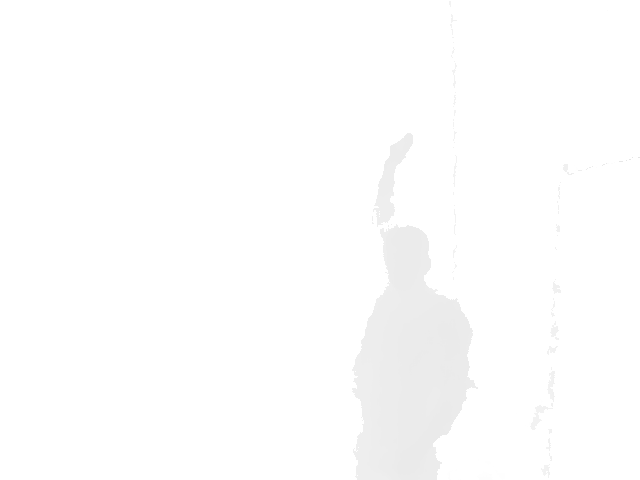hand: (387, 132, 415, 160)
head: (382, 226, 432, 291)
person: (350, 132, 480, 479)
